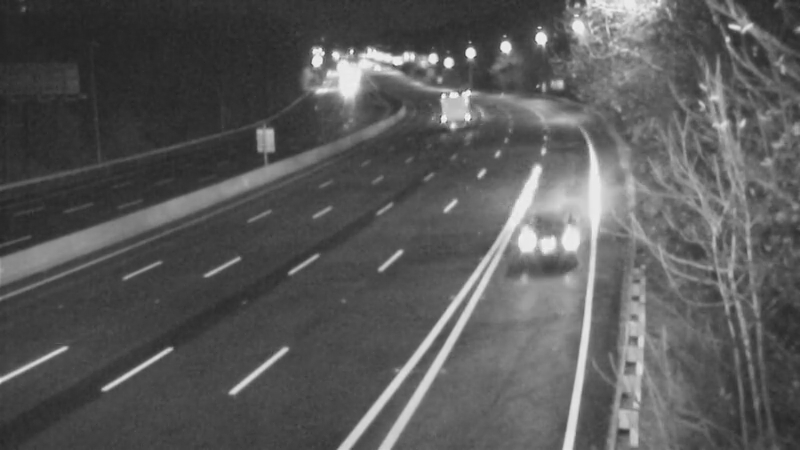vehicle: (503, 196, 583, 276), (426, 77, 476, 127), (321, 62, 371, 112)
